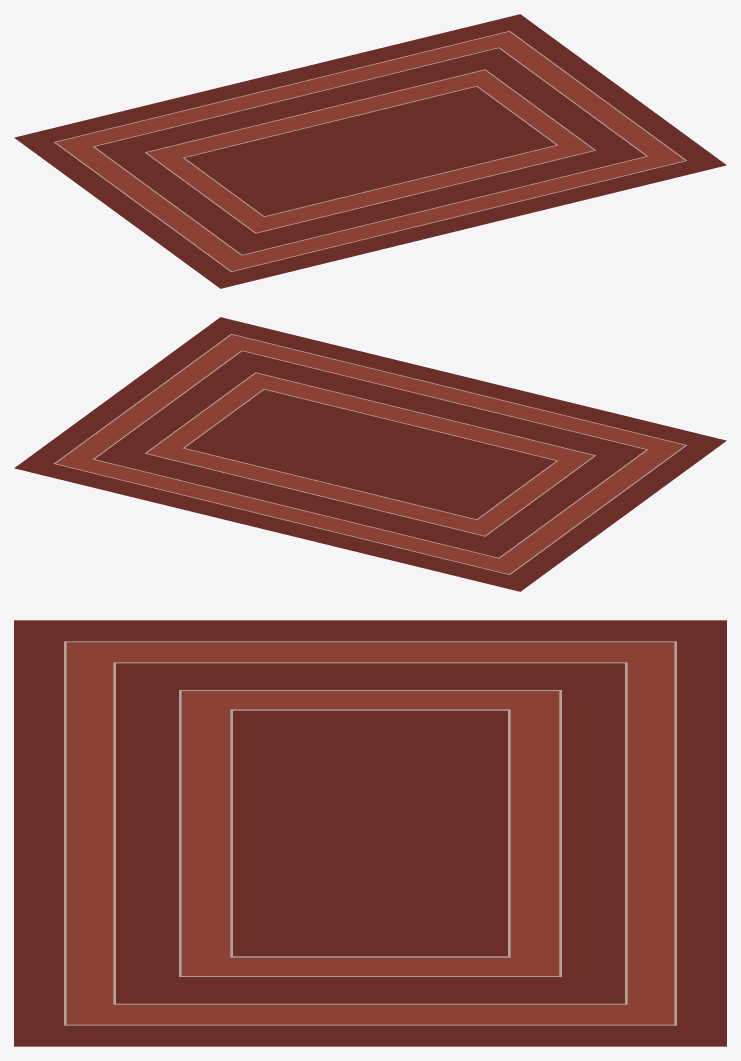
Rendered from Carpet_02.fbx.
3 renders of one model, top to bottom at view 1: azimuth 30°, elevation 25°; view 2: azimuth 150°, elevation 25°; view 3: azimuth 270°, elevation 25°, orthographic. The views are drawn at different scales.
Visible parts, largest first — view 1: Carpet_02; view 2: Carpet_02; view 3: Carpet_02.
Part boxes in pixels (<box>): Carpet_02: <box>14,14,726,288</box>; Carpet_02: <box>14,317,726,591</box>; Carpet_02: <box>14,620,726,1046</box>.
Bounding box in the file's own units: 1.22 × 1.57e-15 × 0.8634.
